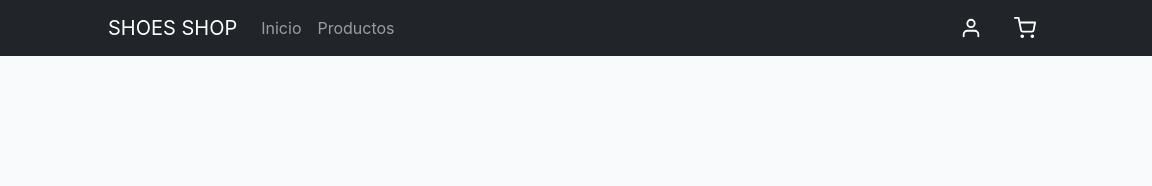
Test: NavBar › debe cerrar el menú al hacer clic en Registrarse
Click the button named "Cuenta de usuario" at point(971, 28), box left=952, top=9, right=990, bottom=47
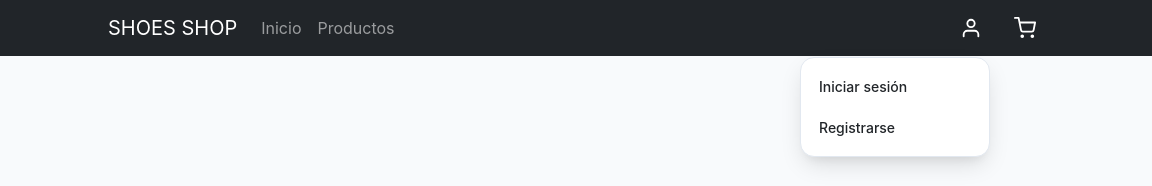
Click the link "Registrarse" at point(857, 128), box left=819, top=119, right=895, bottom=136
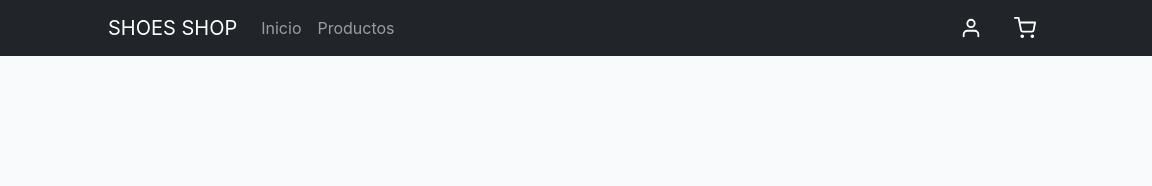
Now the link "Iniciar sesión" is gone
Now the link "Registrarse" is gone
